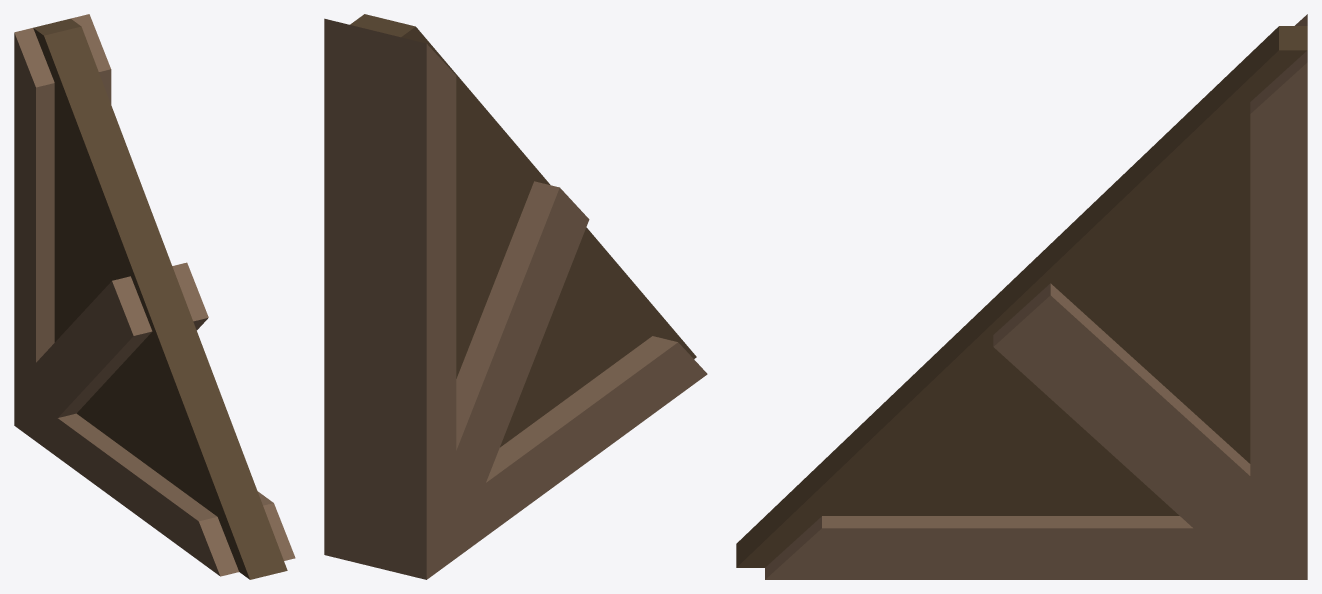
The model's file is enchantedforest_wall_wood_end.fbx.
The picture shows the model from 3 angles, left to right: view 1: azimuth 30°, elevation 25°; view 2: azimuth 150°, elevation 25°; view 3: azimuth 270°, elevation 25°; orthographic projection. The views are drawn at different scales.
Visible parts, largest first — view 1: Cube.023; view 2: Cube.023; view 3: Cube.023.
Part boxes in pixels (x1,y1,x2,y2): Cube.023: [14, 14, 295, 579]; Cube.023: [324, 14, 707, 579]; Cube.023: [736, 14, 1307, 579].
Size of the model in its own units: 0.4 by 2 by 2.
